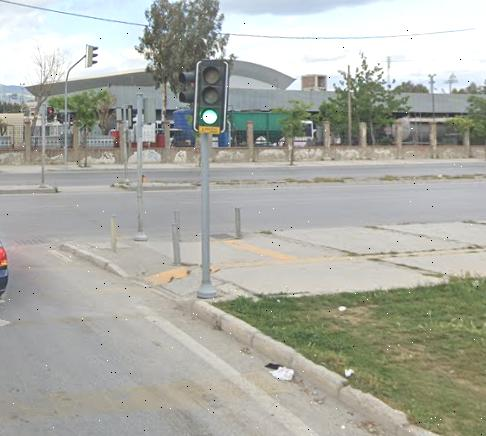greenlight: (198, 62, 224, 125)
